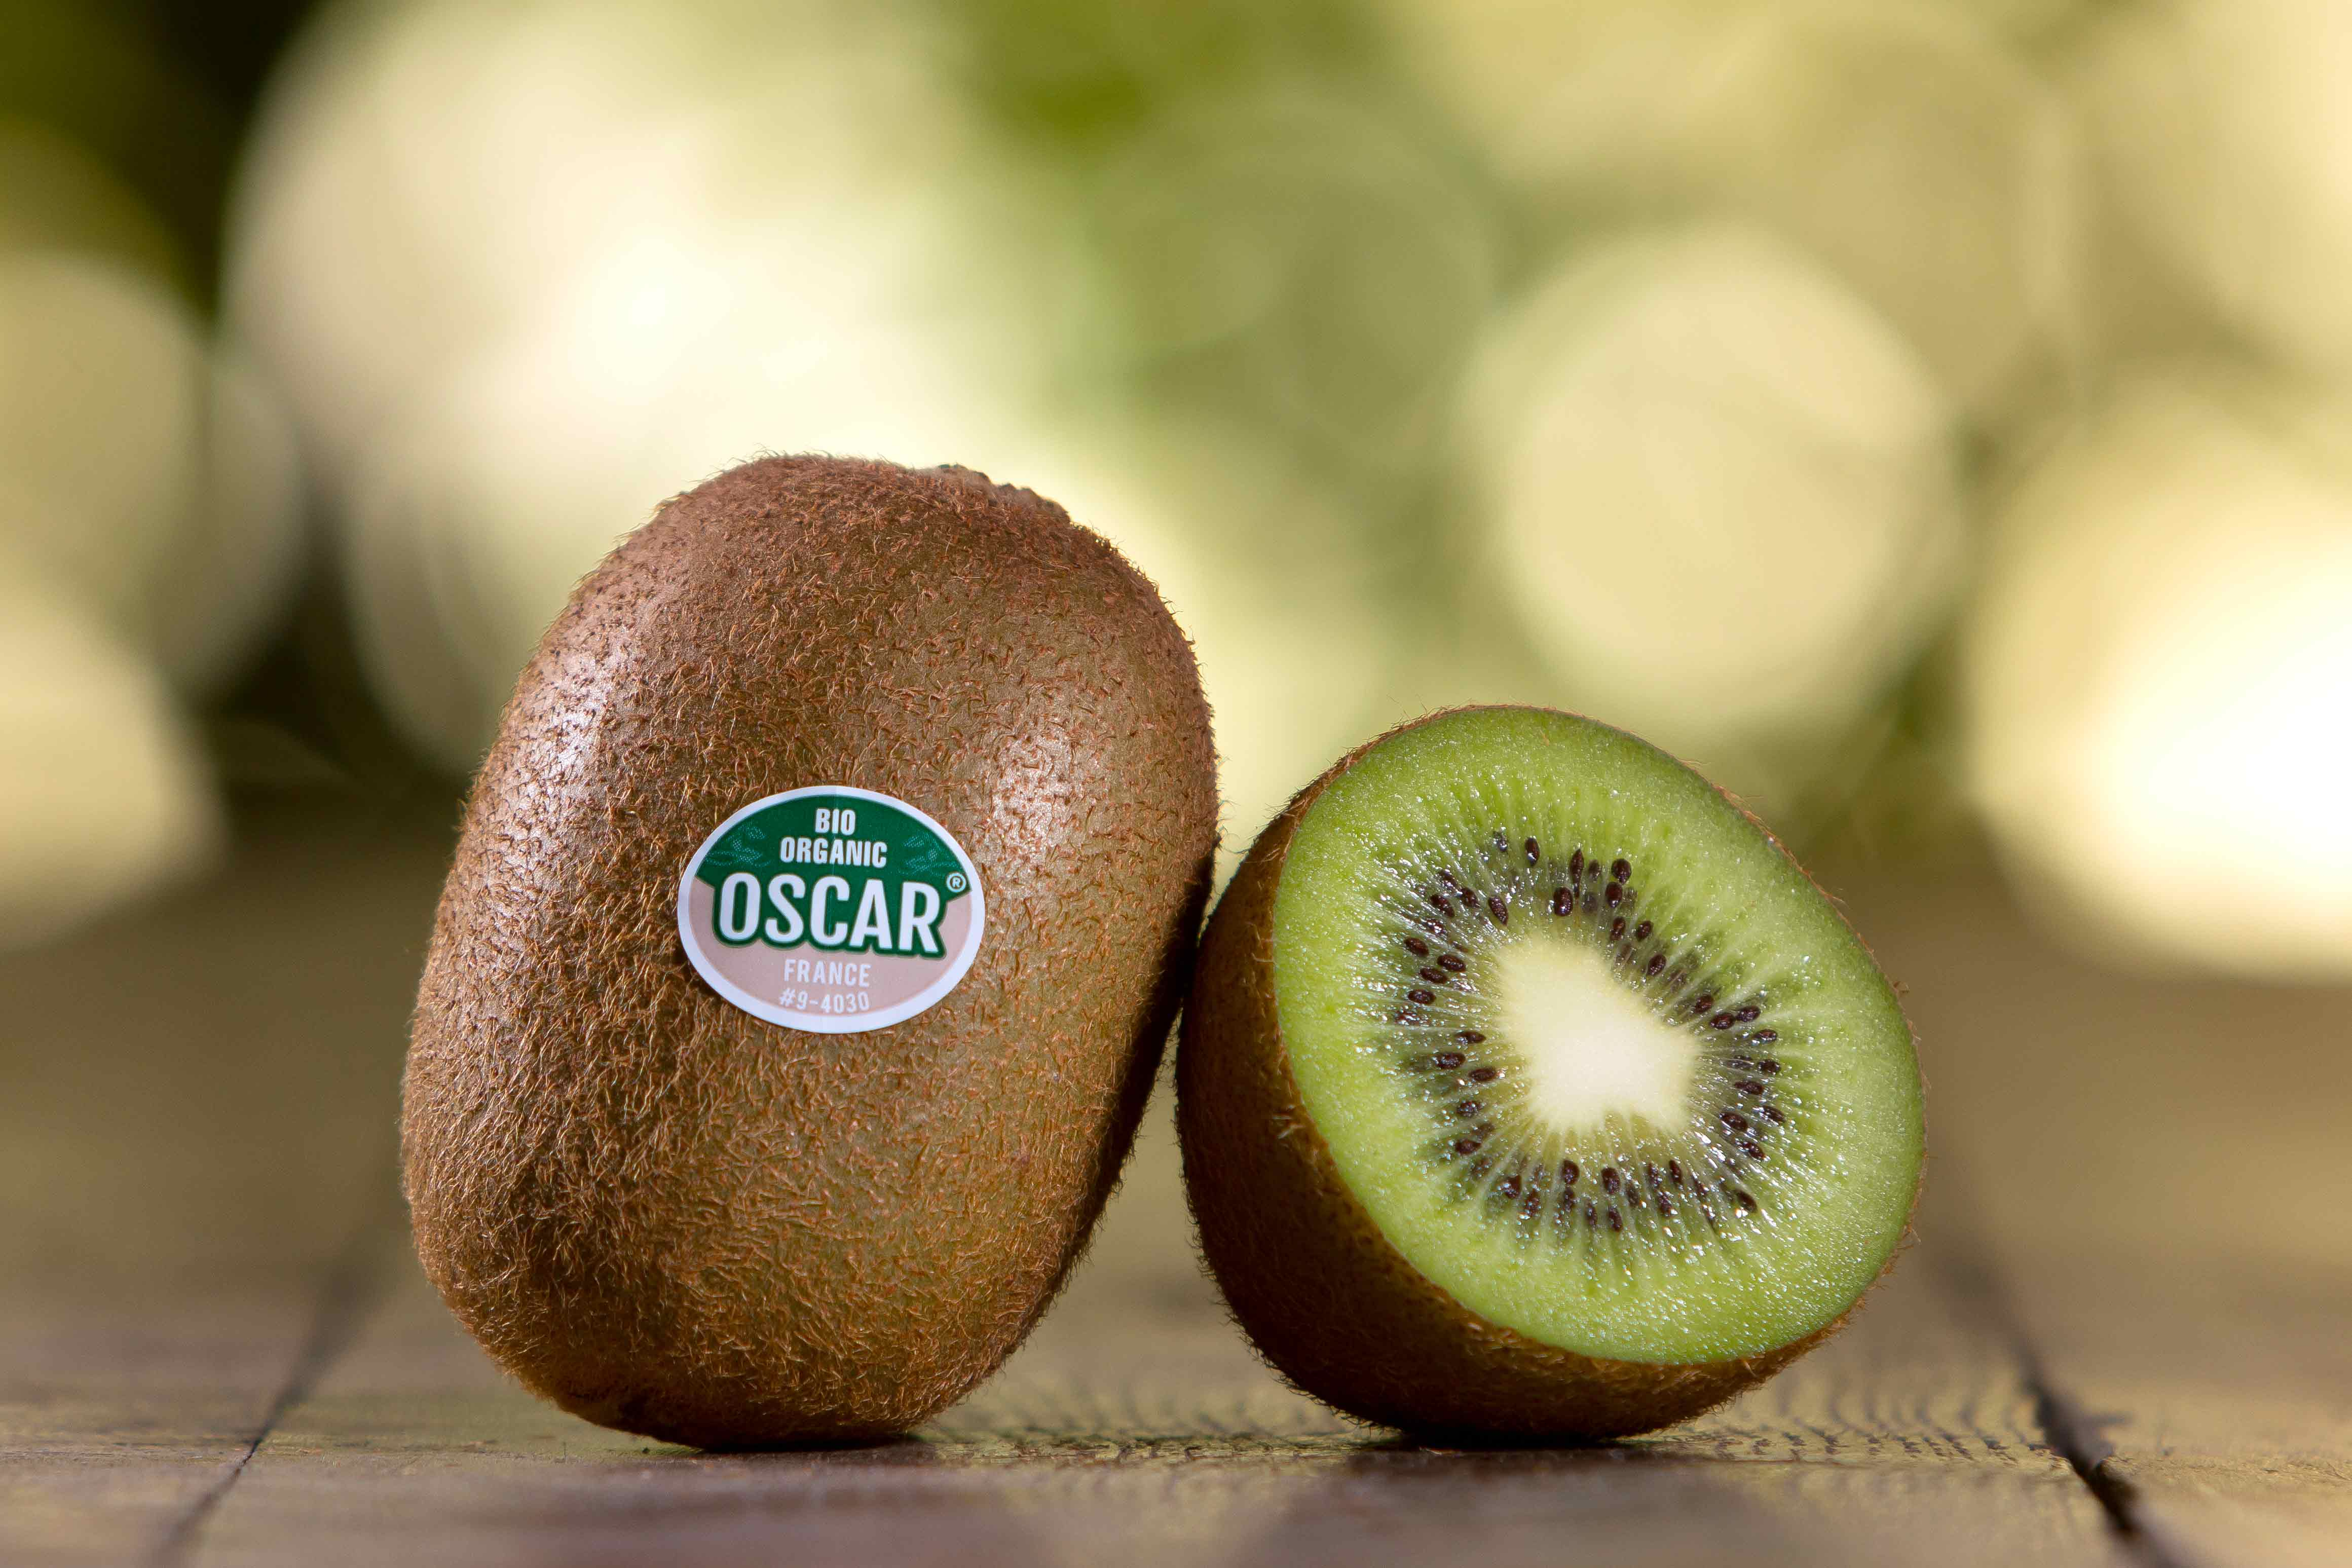kiwi: (395, 450, 1221, 1449), (1172, 702, 1928, 1445)
